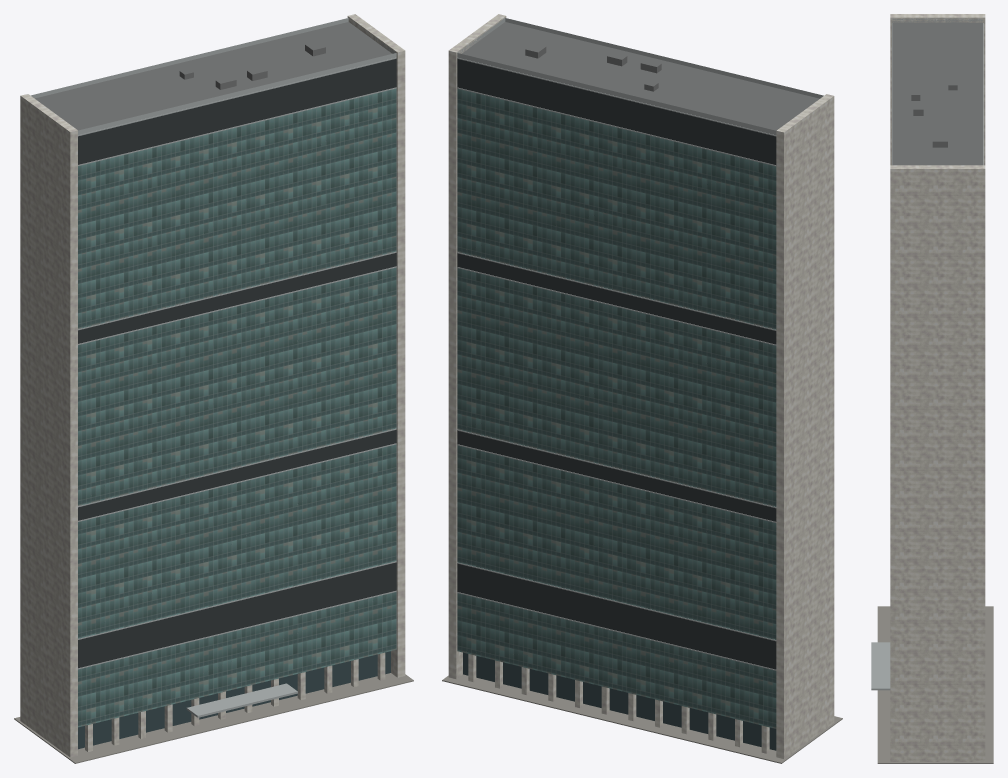
The model's file is un_secretariat.glb.
The picture shows the model from 3 angles, left to right: view 1: azimuth 30°, elevation 25°; view 2: azimuth 150°, elevation 25°; view 3: azimuth 270°, elevation 25°; orthographic projection. The views are drawn at different scales.
Parts seen in each view (by area): view 1: un_secretariat; view 2: un_secretariat; view 3: un_secretariat.
Part boxes in pixels (<box>): un_secretariat: <box>14,14,413,763</box>; un_secretariat: <box>442,14,842,763</box>; un_secretariat: <box>871,14,993,763</box>.
Size of the model in its own units: 88.01 by 156 by 28.99.
Materials: 3 (3 with a texture image).
